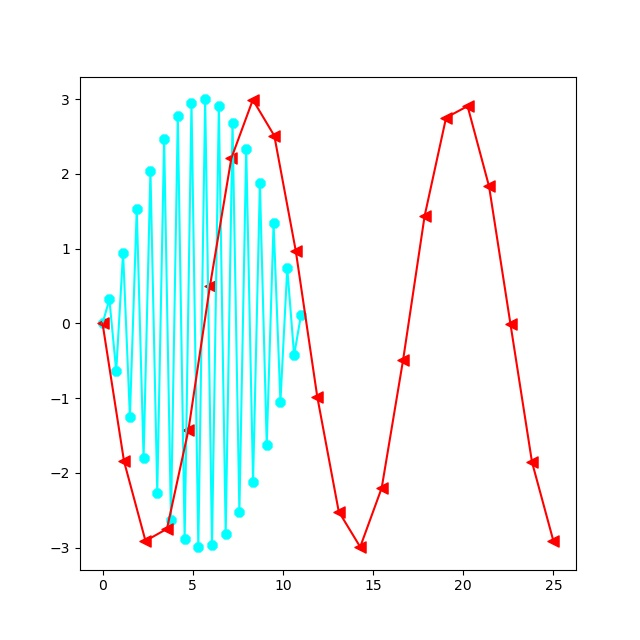octagon: (97, 318, 109, 330), (104, 294, 116, 306), (111, 366, 123, 378), (118, 247, 130, 259), (124, 411, 136, 423), (131, 203, 143, 215), (138, 452, 150, 464), (145, 165, 157, 177), (152, 487, 164, 499), (159, 134, 171, 146), (165, 515, 177, 527), (172, 111, 184, 123), (179, 533, 191, 545), (186, 97, 198, 109), (193, 542, 205, 554), (200, 94, 212, 106), (207, 540, 219, 552), (213, 101, 225, 113), (220, 528, 232, 540), (227, 117, 239, 129), (234, 507, 246, 519), (241, 143, 253, 155), (248, 477, 260, 489), (254, 177, 266, 189), (261, 439, 273, 451), (268, 218, 280, 230), (275, 396, 287, 408), (282, 262, 294, 274), (289, 350, 301, 362), (295, 310, 307, 322)
triangle_left: (97, 317, 110, 330), (118, 455, 131, 468), (139, 535, 152, 548), (161, 523, 174, 536), (182, 424, 195, 437), (204, 280, 217, 293), (225, 152, 238, 165), (247, 94, 260, 107), (268, 130, 281, 143), (290, 245, 303, 258), (311, 391, 324, 404), (333, 506, 346, 519), (354, 541, 367, 554), (376, 482, 389, 495), (397, 354, 410, 367), (419, 210, 432, 223), (440, 112, 453, 125), (462, 100, 475, 113), (483, 180, 496, 193), (505, 318, 518, 331), (526, 456, 539, 469), (547, 535, 560, 548)
